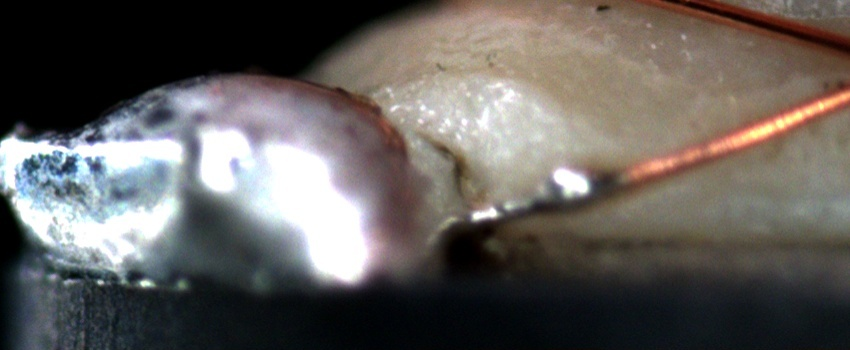TB: (533, 159, 613, 212)
TS: (474, 174, 604, 225)
TTCW: (461, 143, 699, 226)
